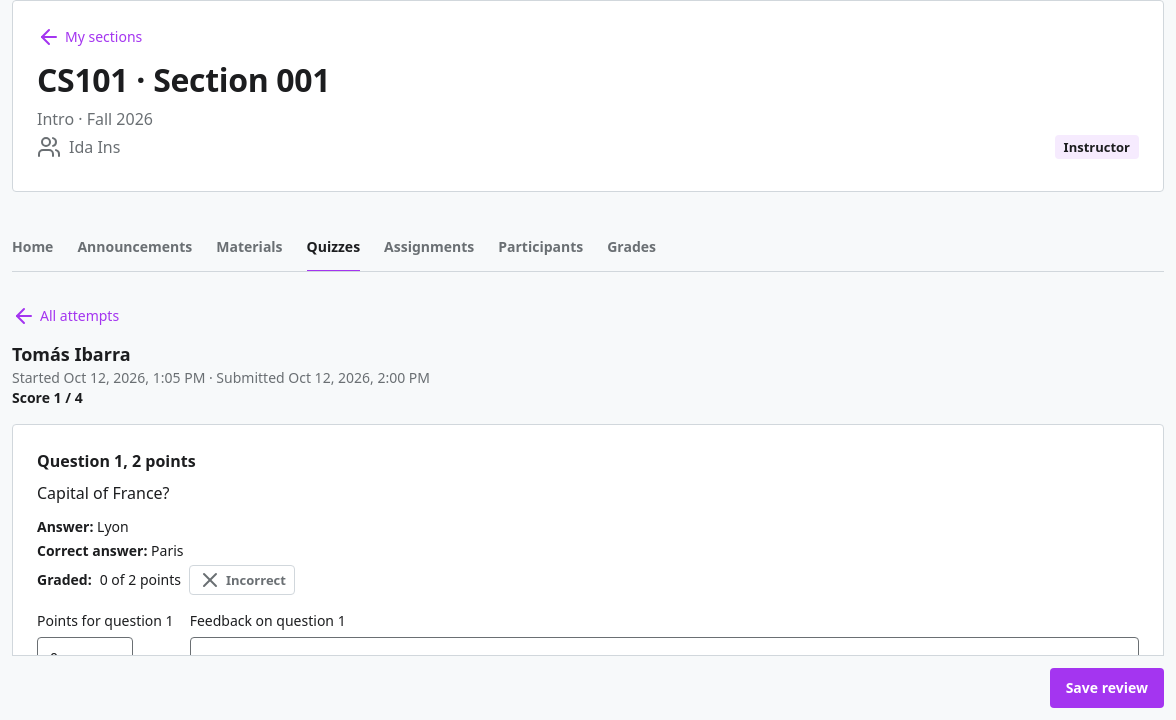
Test: nothing changed says so without a request
The width and height of the screenshot is (1176, 720).
Step 1. Click the button "Save review" → click(1107, 688), box [1050, 668, 1164, 708]
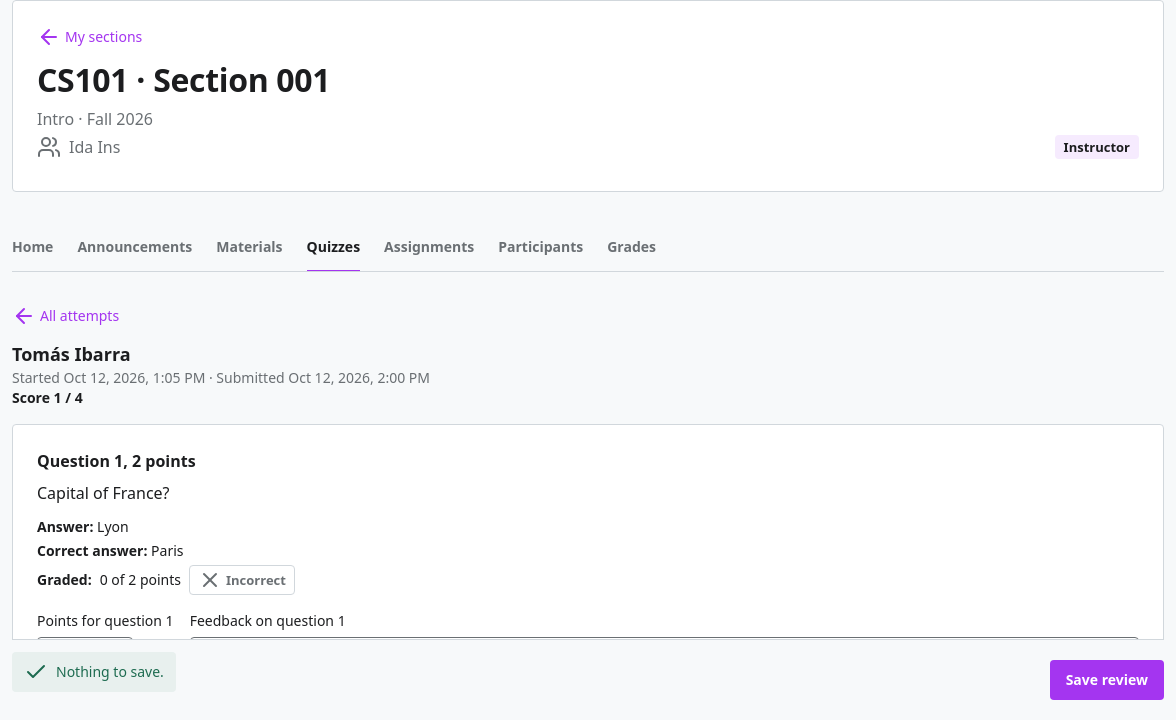
Now the text "Nothing to save." is shown, box [12, 652, 176, 692]
